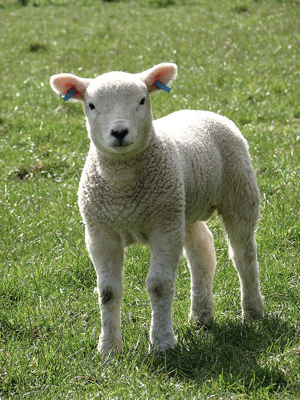koyun: (47, 61, 264, 361)
